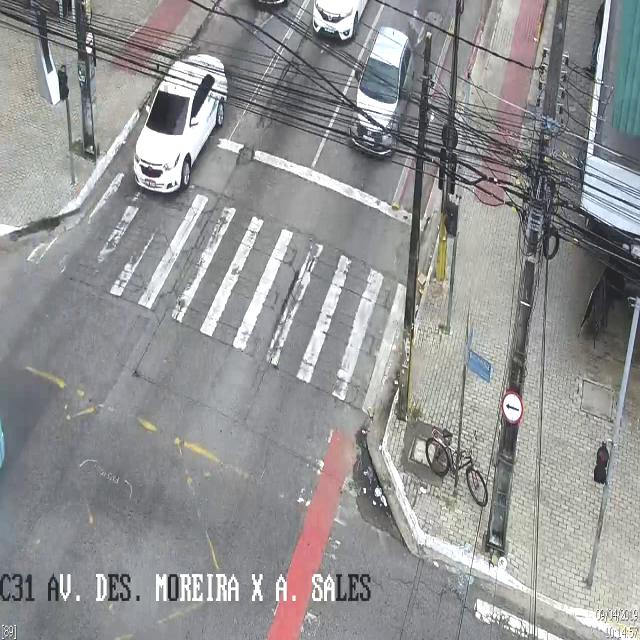Car: (134, 53, 226, 194), (349, 27, 415, 162), (312, 2, 366, 42)
